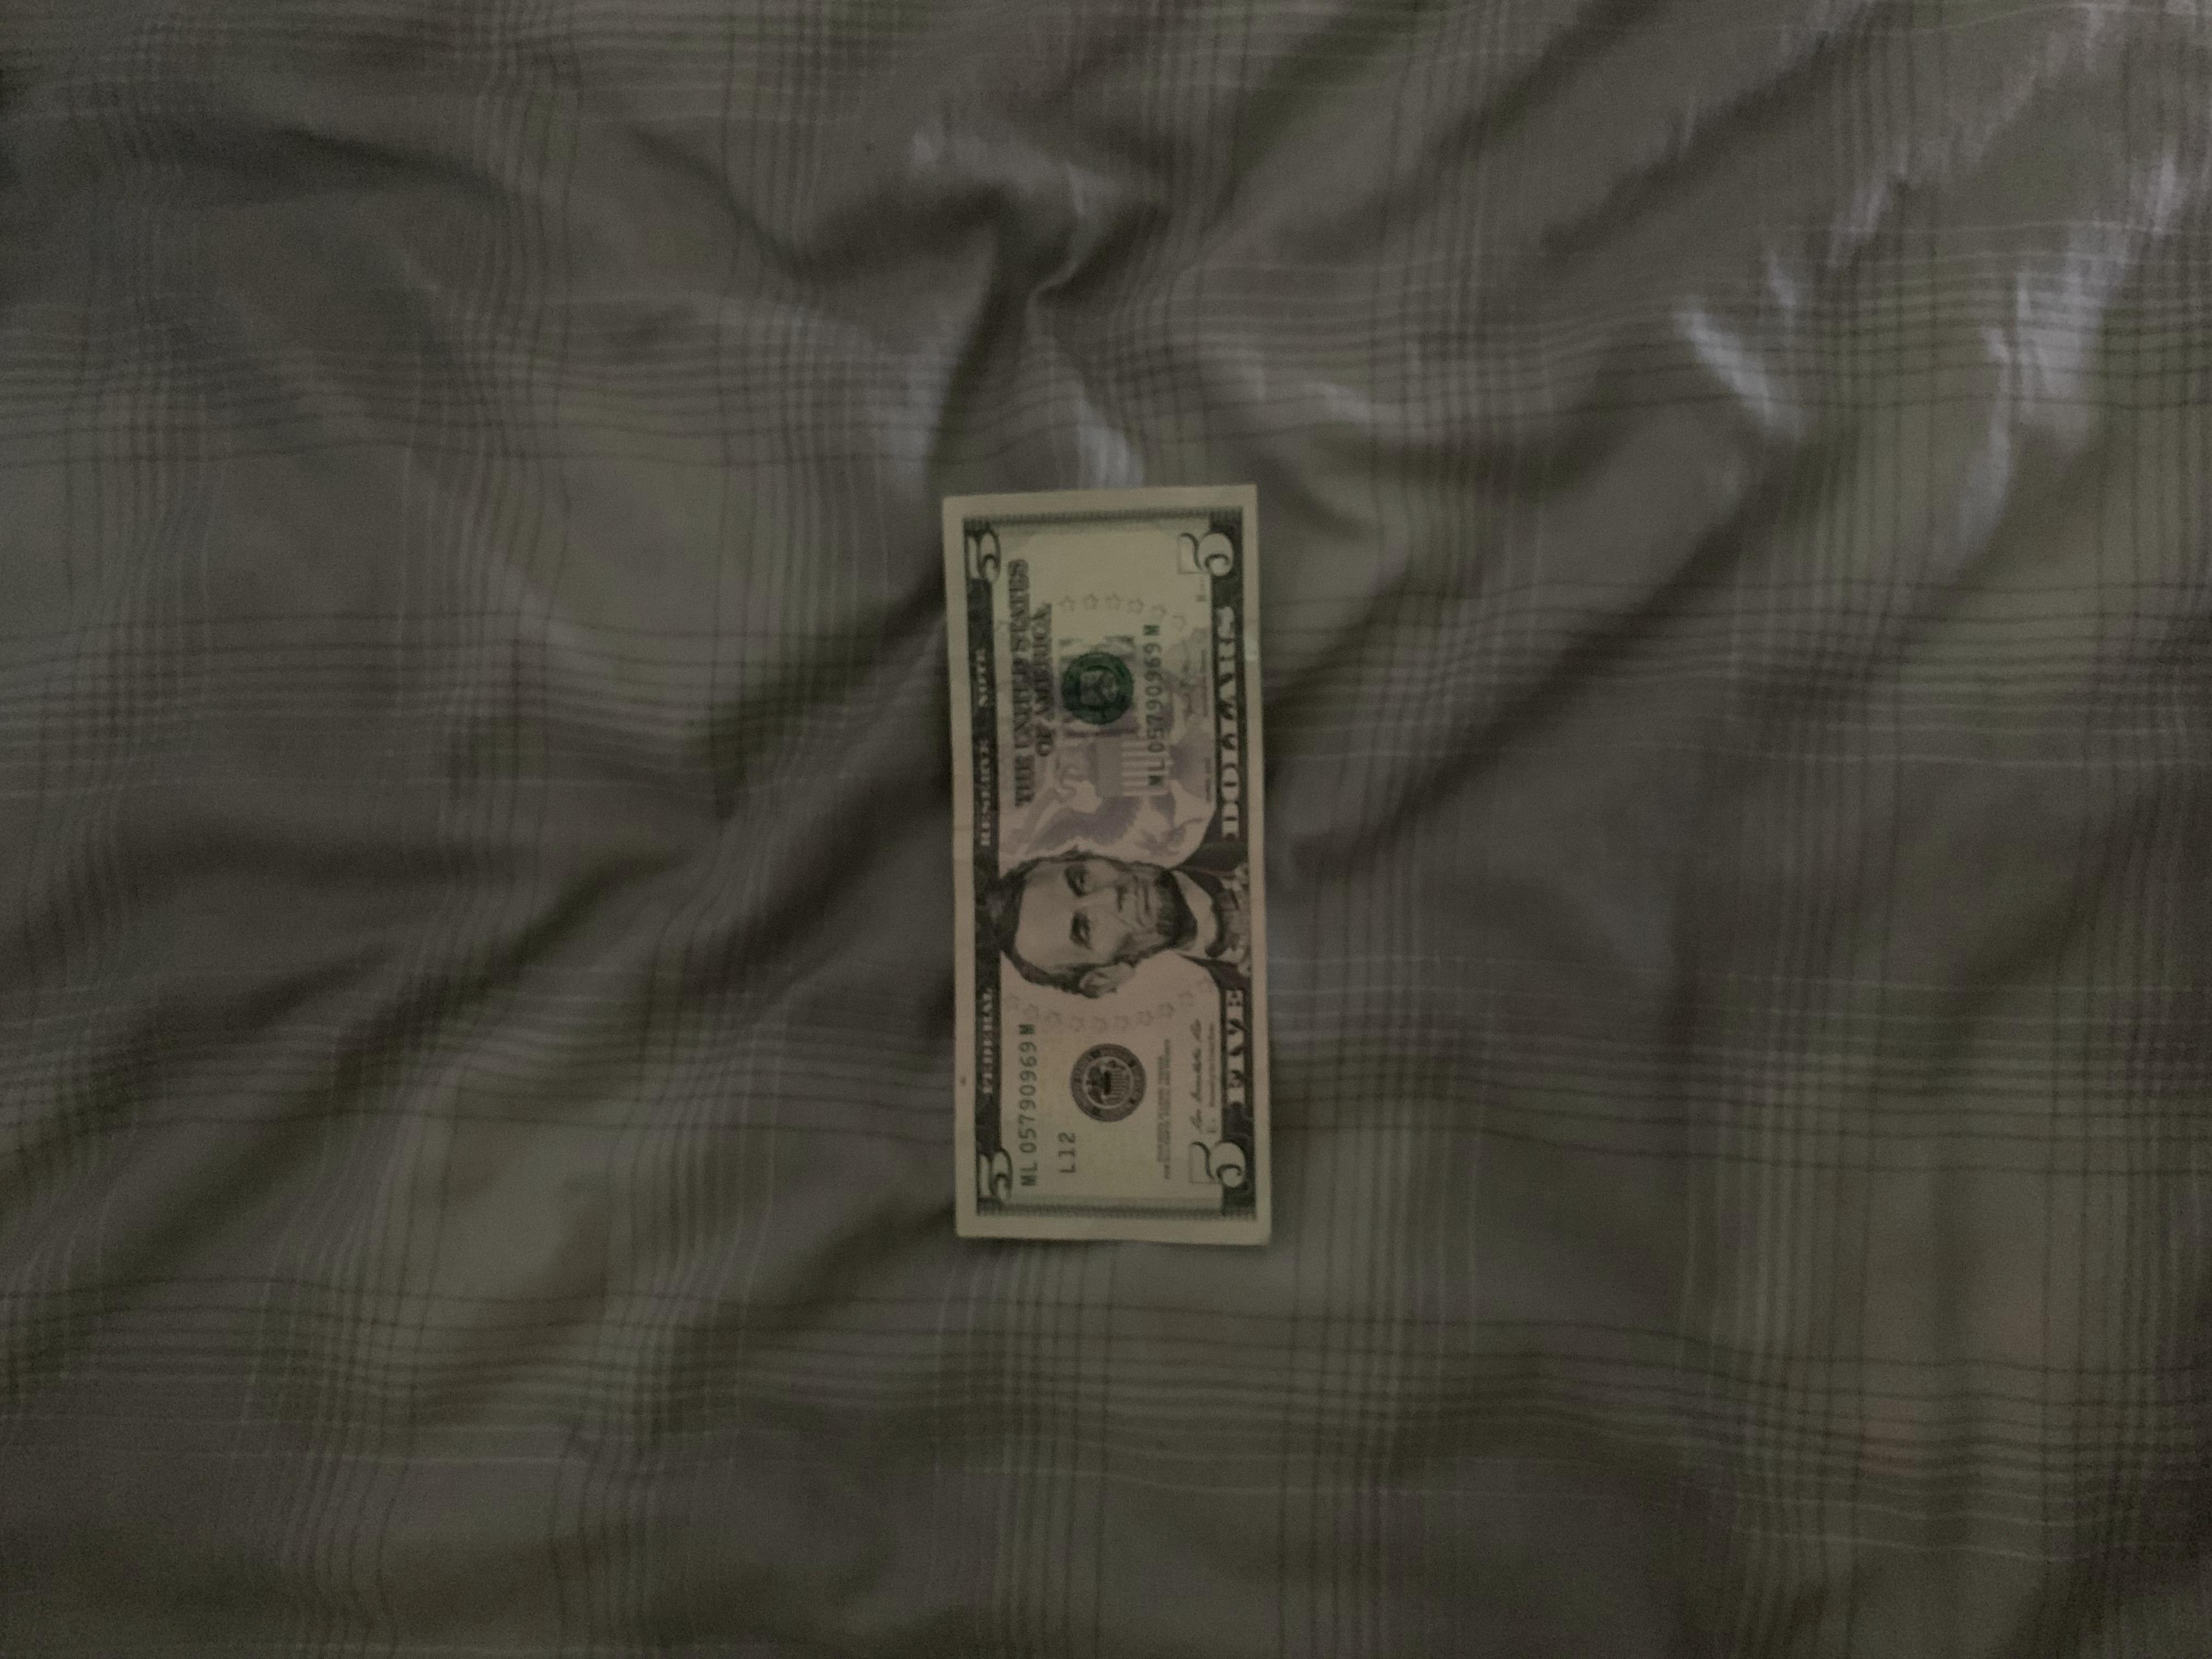FiveBill: (942, 481, 1270, 1248)
